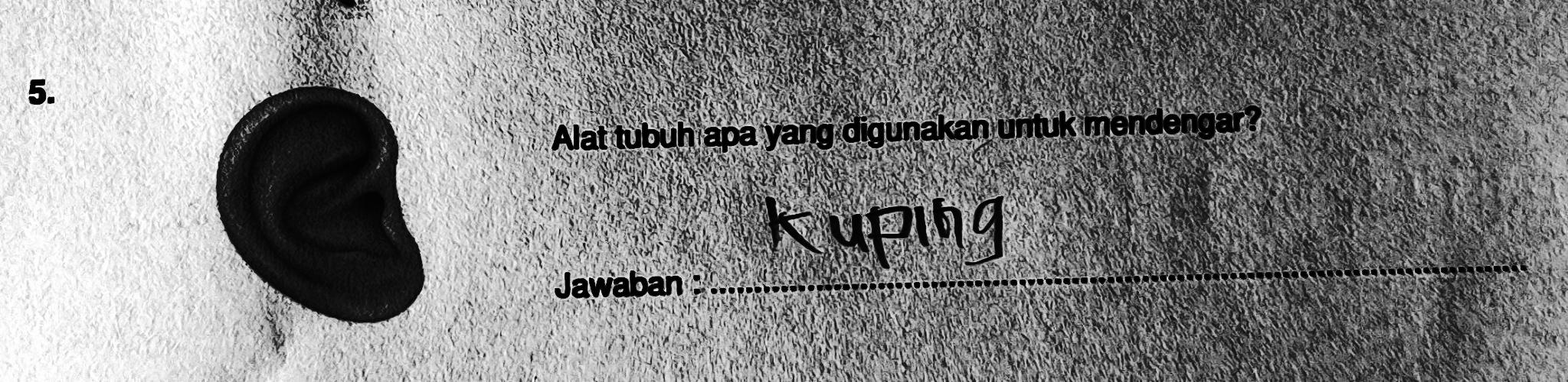jawaban: (761, 186, 1023, 275)
